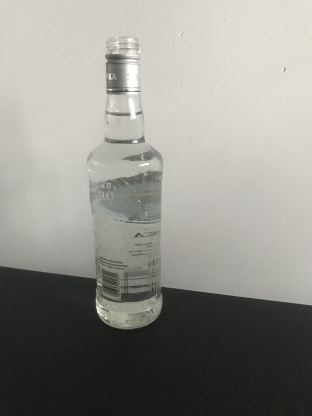nakretka: (103, 34, 142, 95)
